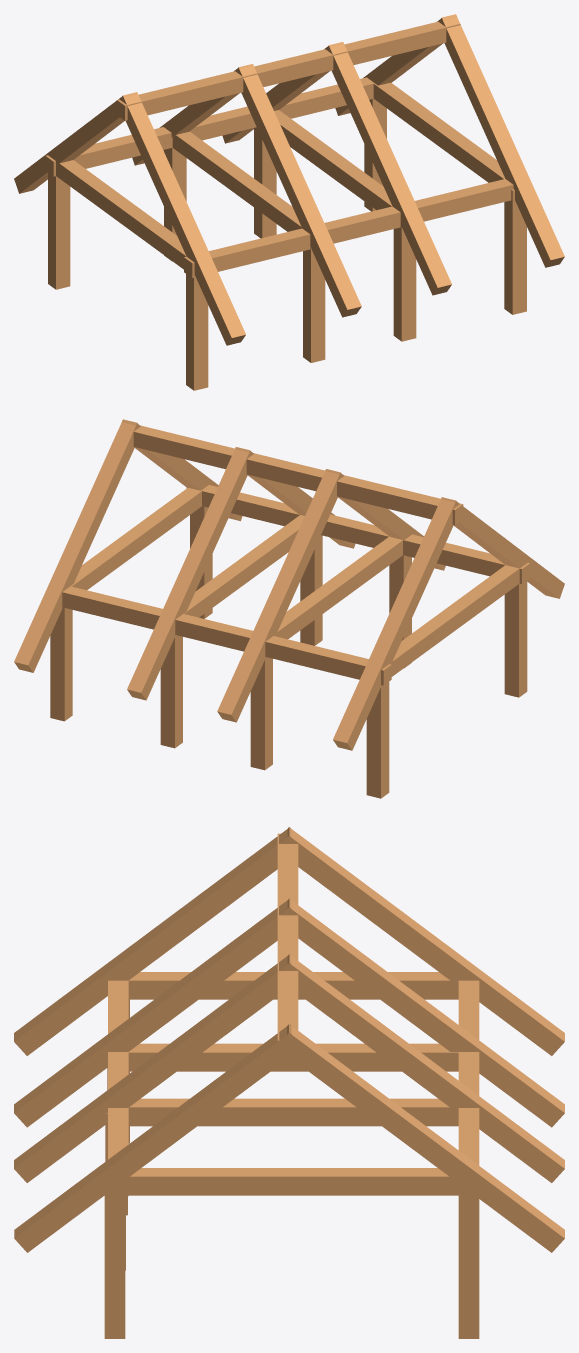
File: charpente.glb
3 views of the same model, one above another, from view 1: azimuth 30°, elevation 25°; view 2: azimuth 150°, elevation 25°; view 3: azimuth 270°, elevation 25° (orthographic). The views are drawn at different scales.
Visible parts, largest first — view 1: Cube.022; view 2: Cube.022; view 3: Cube.022.
Part boxes in pixels (box(x1,y1,x2,y2)): Cube.022: box(14, 14, 564, 390); Cube.022: box(14, 419, 564, 798); Cube.022: box(14, 827, 564, 1338).
Bounding box in the file's own units: 17.01 × 11.77 × 19.12.
